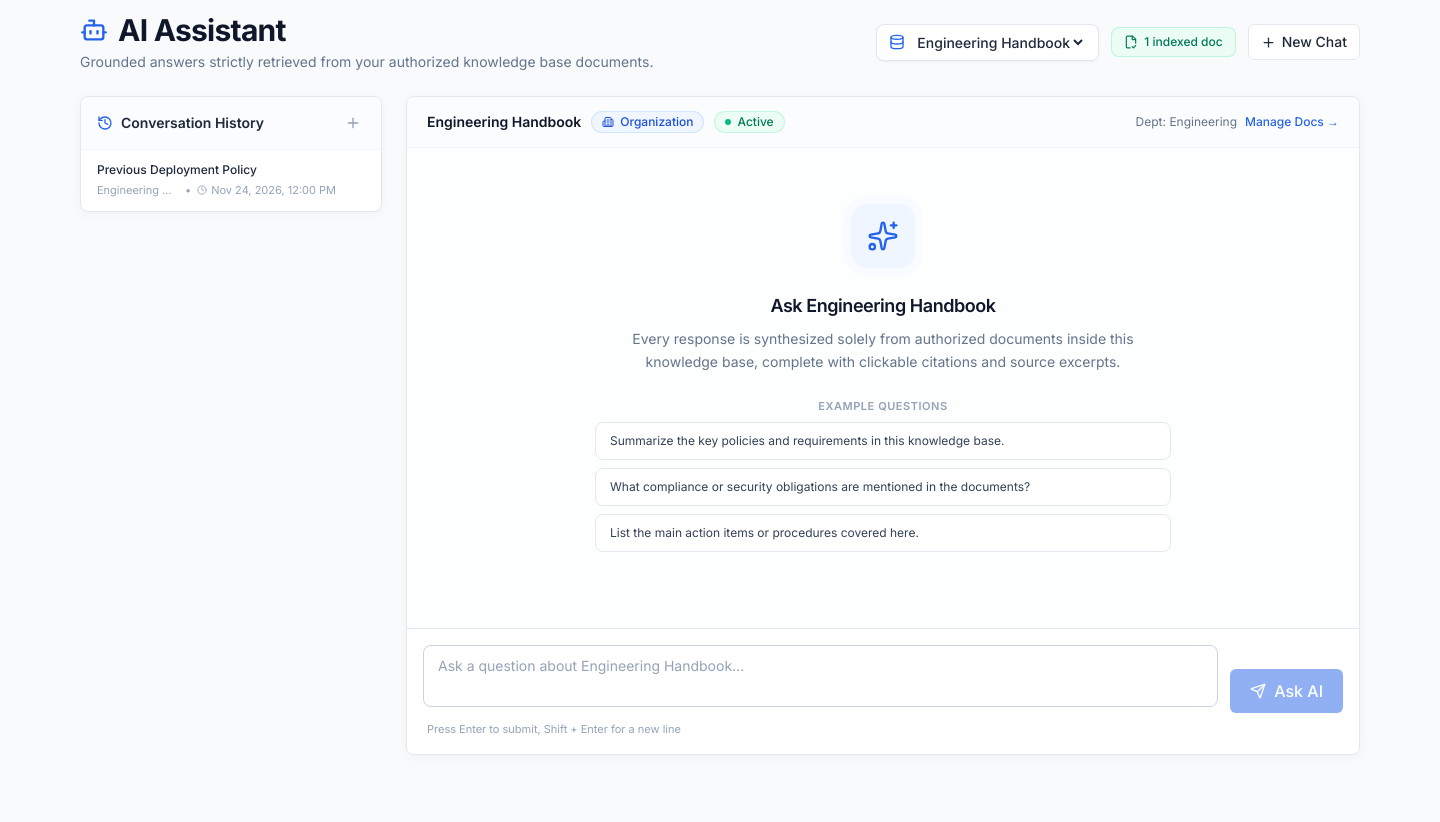
AiAssistant Frontend Integration › loads and switches historical conversations from backend and deletes cleanly
Later steps or results of the test are not shown.
Click the text "Previous Deployment Policy": (177, 170) [97,162,257,177]
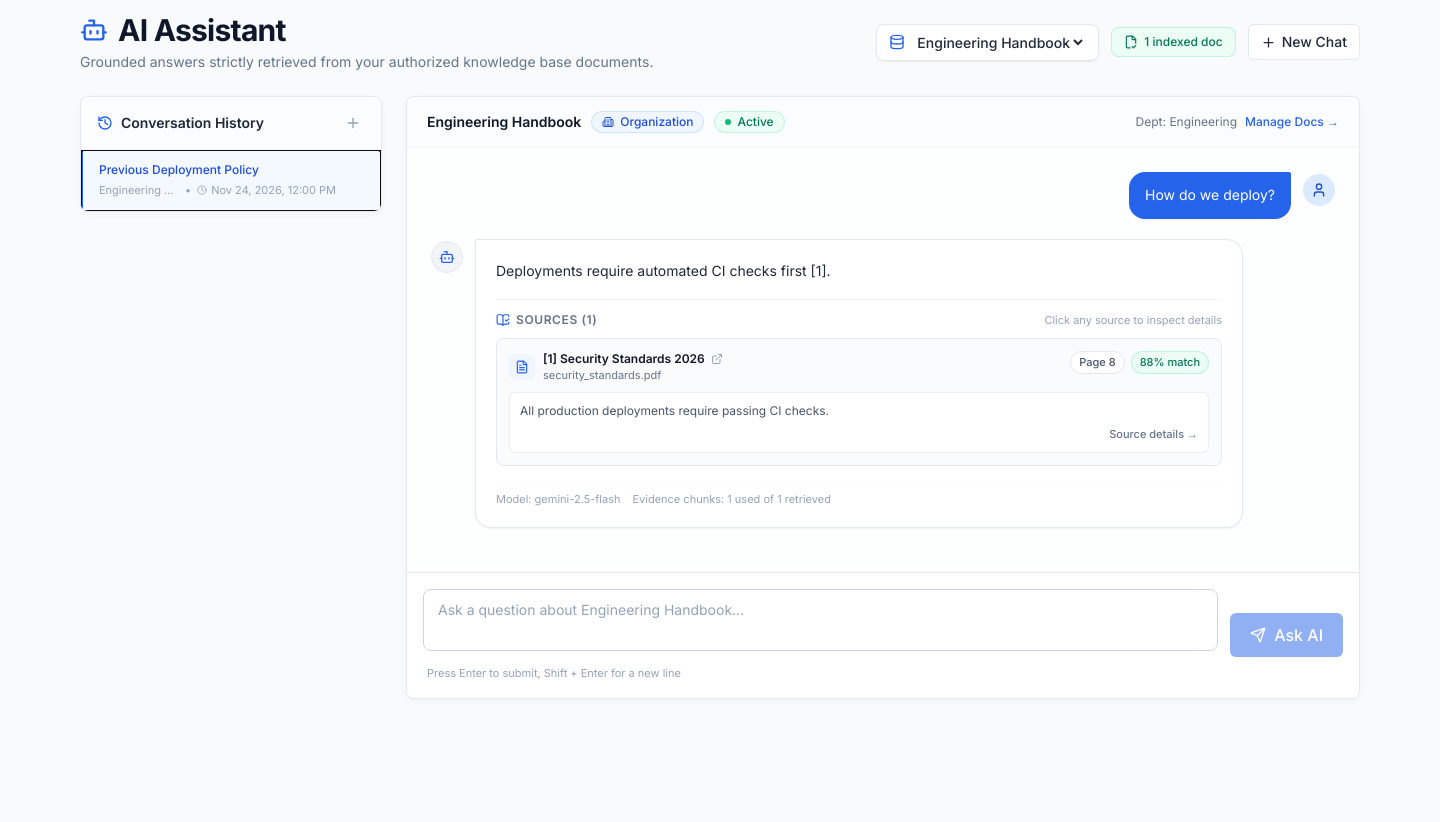
Expected: the text "How do we deploy?" is shown, [1129,172,1291,219]
Expected: the text "Deployments require automated CI checks first [1]." is shown, [496,262,830,279]
Expected: the text "Page 8" is shown, [1070,351,1125,374]
